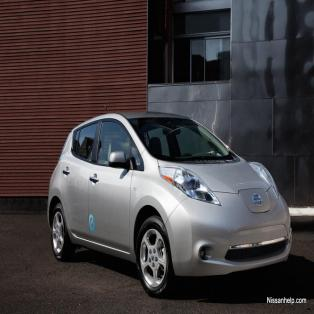Auto: (47, 111, 292, 300)
